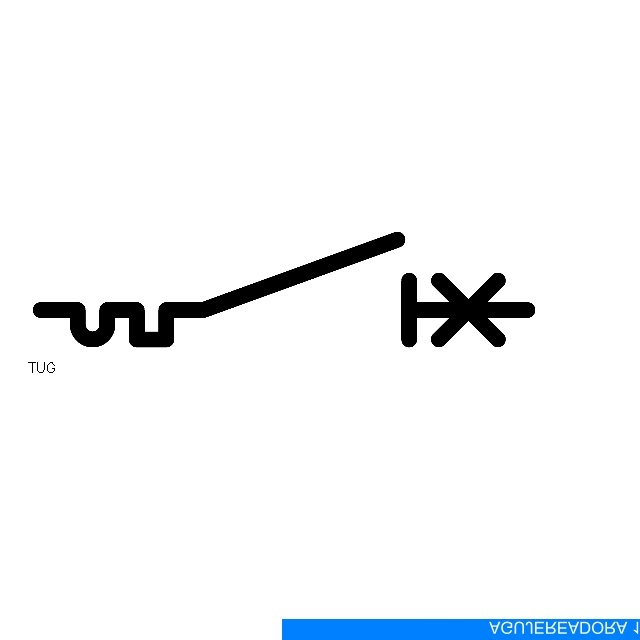interruptor_termomagnetico: (28, 227, 540, 352)
